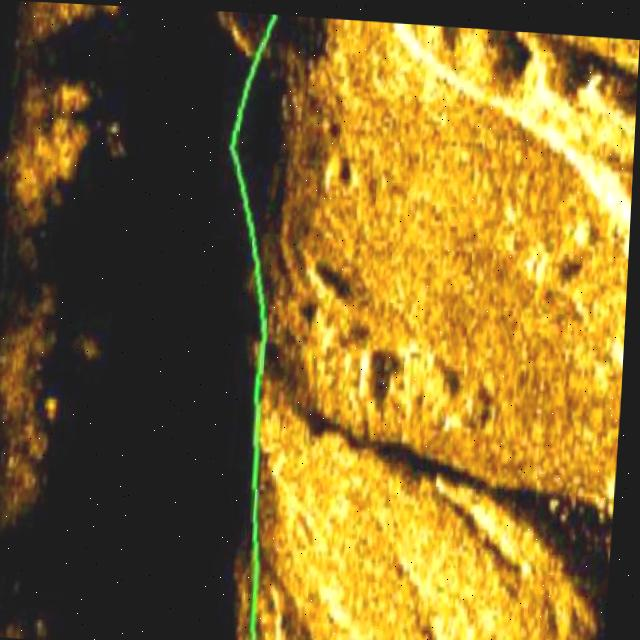bedrock group: (244, 258, 630, 640), (370, 17, 640, 254)
